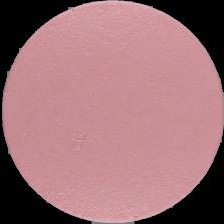43063-392: (0, 0, 224, 224)
